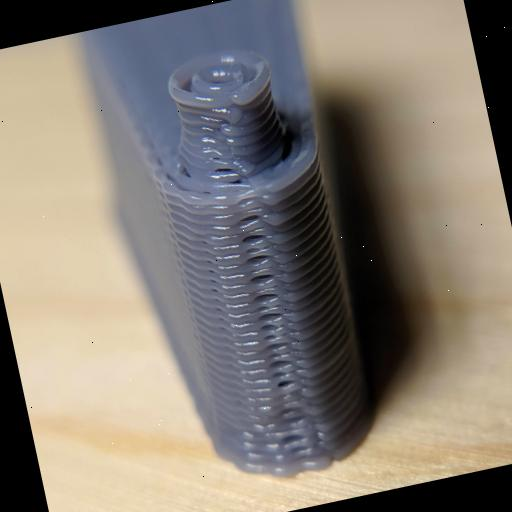cracks: (220, 201, 309, 422)
